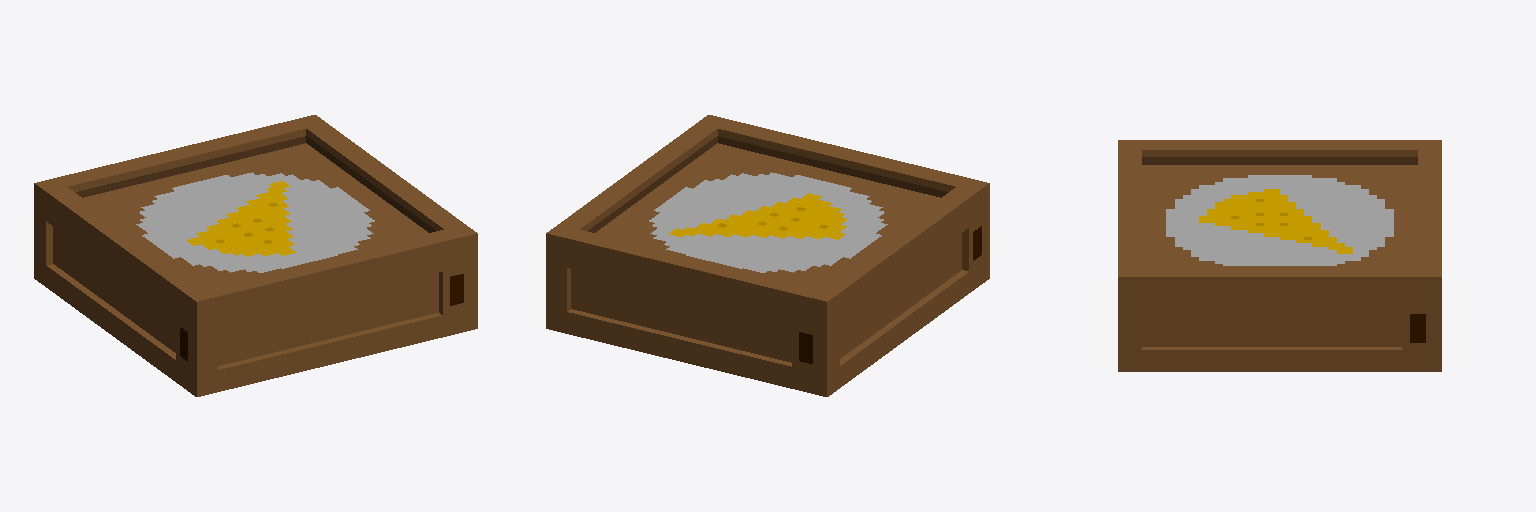
3 views of the same model, side by side, from view 1: azimuth 30°, elevation 25°; view 2: azimuth 150°, elevation 25°; view 3: azimuth 270°, elevation 25° (orthographic).
Visible parts, largest first — view 1: object 1; view 2: object 1; view 3: object 1.
Boxes of the visible parts, <box> form: object 1: <box>34,115,477,396</box>; object 1: <box>546,115,989,396</box>; object 1: <box>1118,140,1441,371</box>.
Size of the model in its own units: 4 by 1.3 by 4.
Materials: 1 (1 with a texture image).